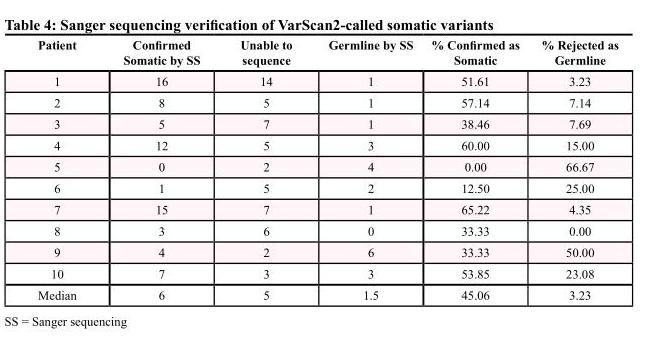table: (37, 37, 617, 301)
table column: (99, 37, 219, 301), (309, 37, 421, 301), (421, 37, 529, 301), (219, 37, 309, 301), (529, 37, 617, 301), (37, 37, 99, 301)
table column header: (37, 37, 617, 70)
table row: (37, 37, 617, 70), (37, 112, 617, 134), (37, 176, 617, 198), (37, 219, 617, 241), (37, 70, 617, 91), (37, 91, 617, 112), (37, 134, 617, 155), (37, 155, 617, 176), (37, 198, 617, 219), (37, 241, 617, 262), (37, 262, 617, 283), (37, 283, 617, 301)
